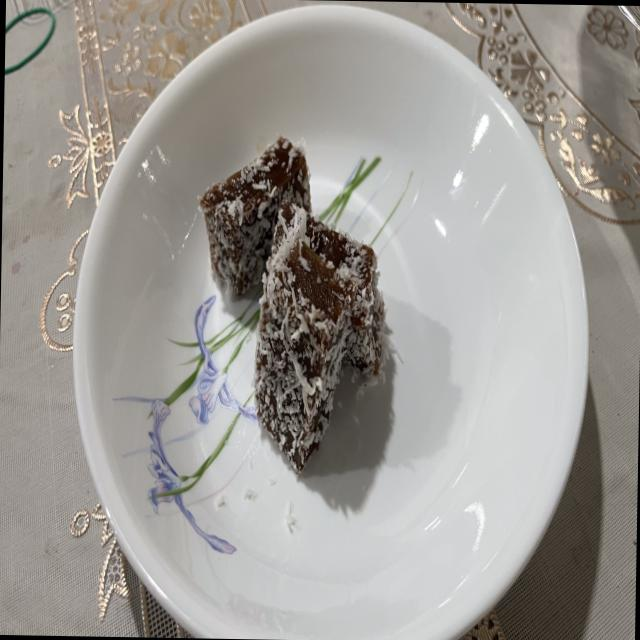kaswi: (246, 231, 353, 472), (265, 205, 389, 382), (199, 137, 311, 294)
